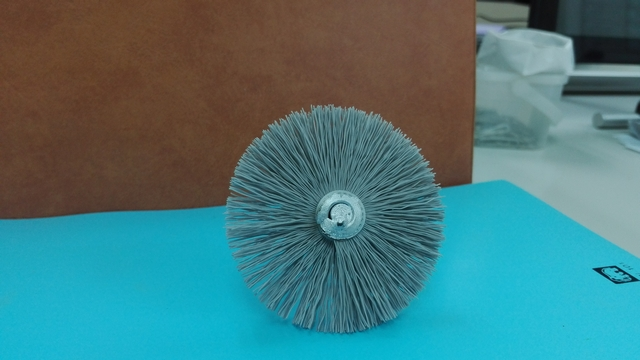TOOL: (193, 76, 462, 345), (252, 48, 456, 348), (223, 89, 450, 345)
